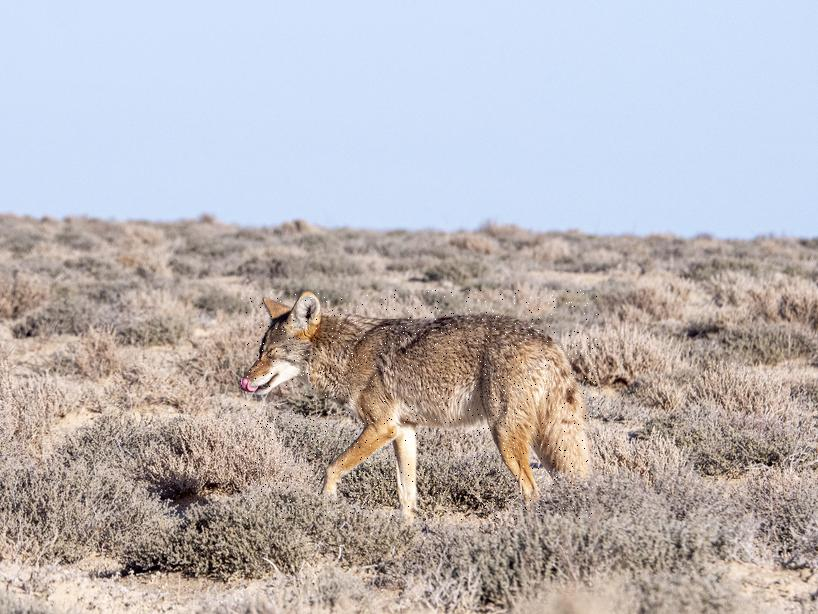Coyote: (240, 291, 599, 521)
